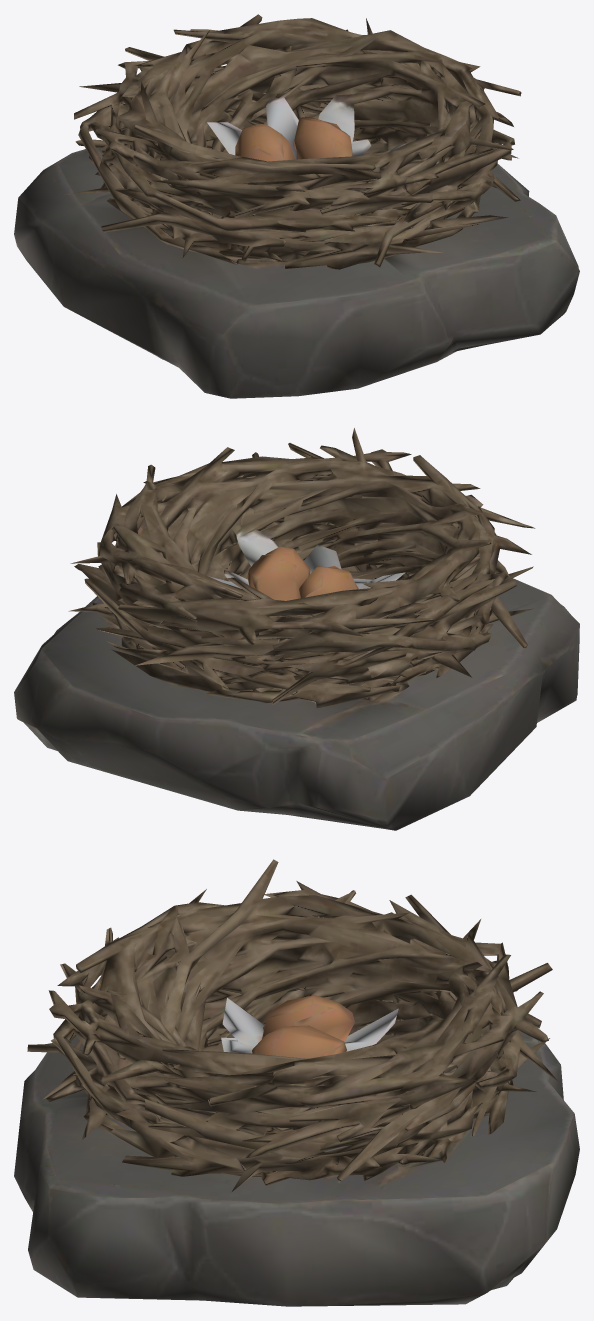
The model's file is nido_condor.movil.glb.
The picture shows the model from 3 angles, top to bottom: view 1: azimuth 30°, elevation 25°; view 2: azimuth 150°, elevation 25°; view 3: azimuth 270°, elevation 25°; orthographic projection. The views are drawn at different scales.
Parts seen in each view (by area): view 1: geometry_0; view 2: geometry_0; view 3: geometry_0.
Part boxes in pixels (x1,y1,x2,y2): geometry_0: (14,14,579,398); geometry_0: (14,428,579,830); geometry_0: (14,859,579,1306).
Size of the model in its own units: 0.9644 by 0.4736 by 0.9971.
1 material, 1 textured.
